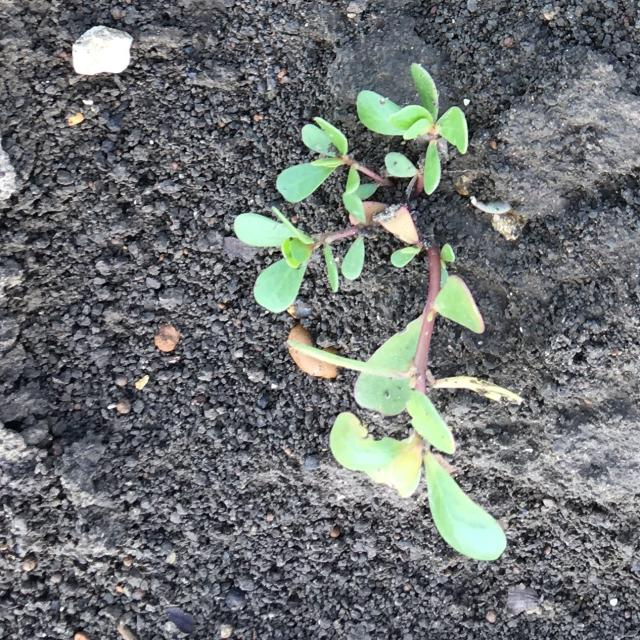Purslane: (233, 62, 507, 560)
